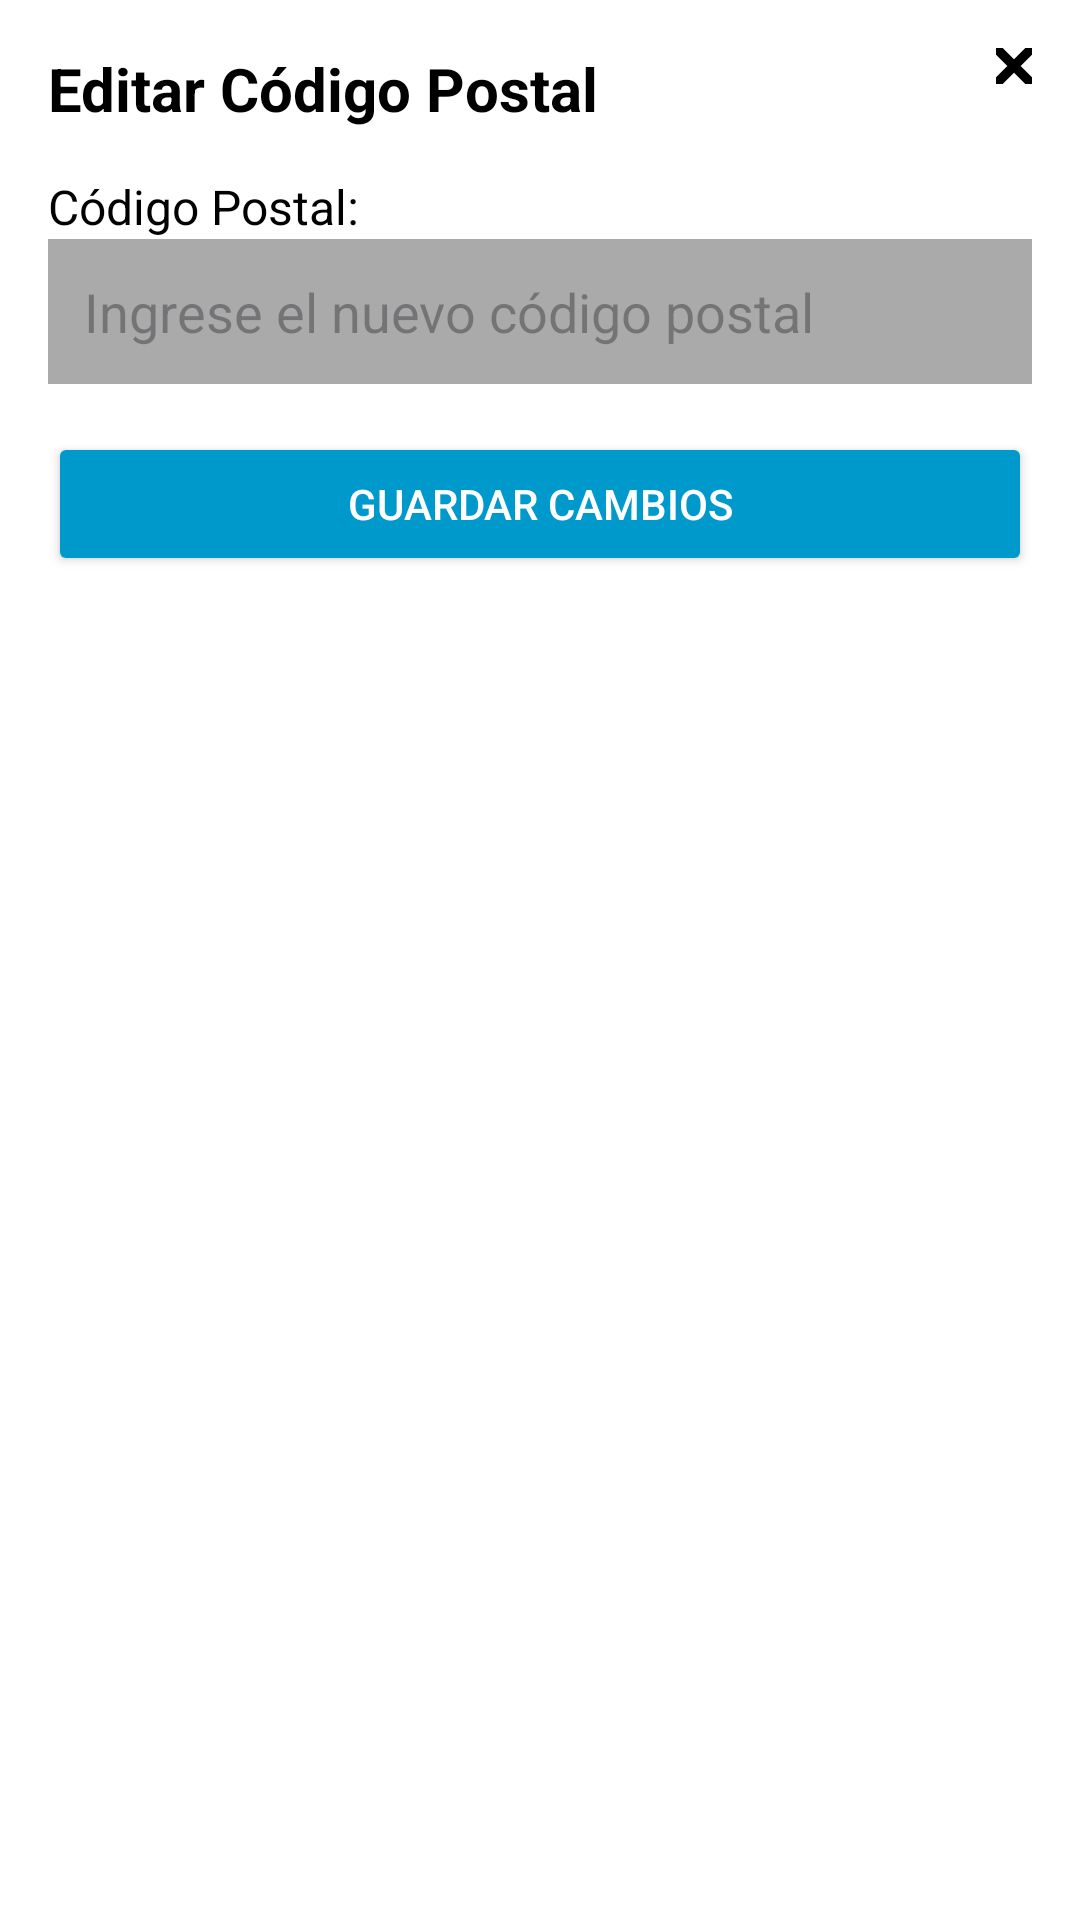

Where icons sit on this 1080x1920 app screen, as (x1, y1, x2, y2):
salir: (996, 48, 1032, 84)
